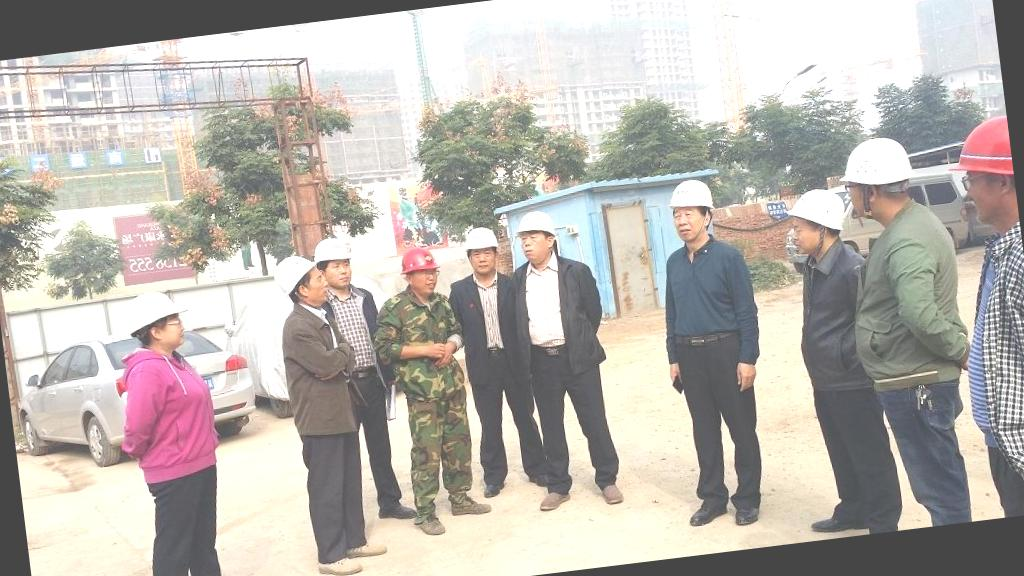helmet: (834, 130, 918, 190), (943, 115, 1014, 180), (780, 184, 850, 236), (118, 282, 186, 332), (267, 249, 318, 297), (662, 174, 723, 214), (307, 229, 356, 267), (396, 240, 442, 276), (512, 205, 560, 238), (460, 222, 500, 252)
no_vest: (848, 200, 970, 400), (947, 195, 1024, 462), (110, 342, 224, 500), (651, 237, 764, 360), (278, 300, 366, 442), (786, 239, 864, 387), (508, 256, 600, 371), (378, 288, 460, 396), (452, 270, 526, 372), (332, 282, 382, 383)
person: (830, 115, 989, 533), (635, 168, 785, 536), (766, 181, 900, 542), (98, 282, 246, 576), (498, 201, 626, 520), (360, 233, 492, 538), (933, 100, 1024, 520), (263, 248, 375, 576), (442, 218, 549, 506), (310, 225, 410, 533)
